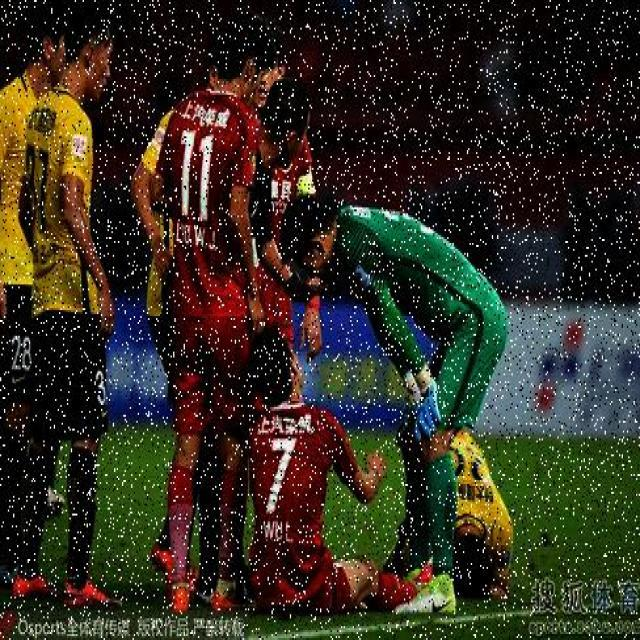fall: (244, 334, 408, 606)
